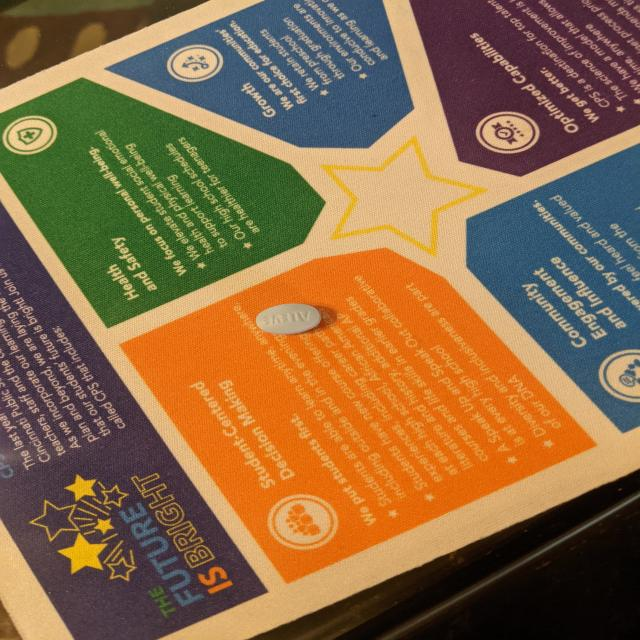non-organic waste: (255, 302, 323, 335)
